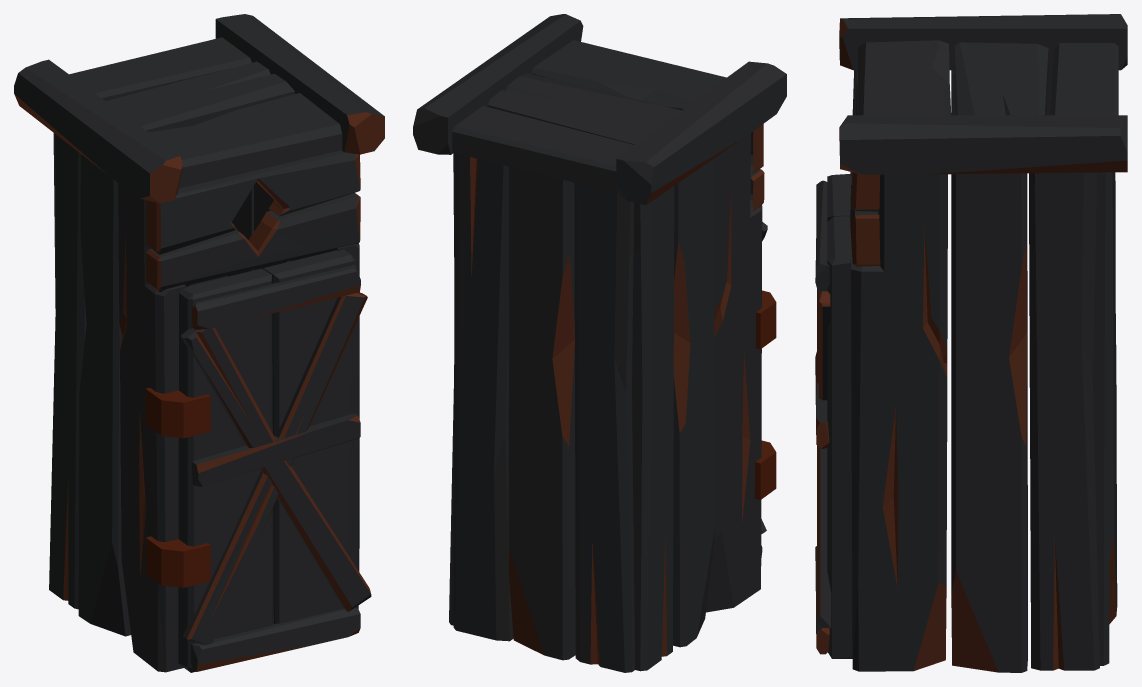
Rendered from Privy_2.fbx.
3 renders of one model, left to right at view 1: azimuth 30°, elevation 25°; view 2: azimuth 150°, elevation 25°; view 3: azimuth 270°, elevation 25°, orthographic. The views are drawn at different scales.
Visible parts, largest first — view 1: Privy_2; view 2: Privy_2; view 3: Privy_2.
Boxes of the visible parts, <box> form: Privy_2: <box>14,14,384,672</box>; Privy_2: <box>413,14,786,672</box>; Privy_2: <box>815,14,1127,672</box>.
Size of the model in its own units: 33.93 by 70.82 by 36.52.
